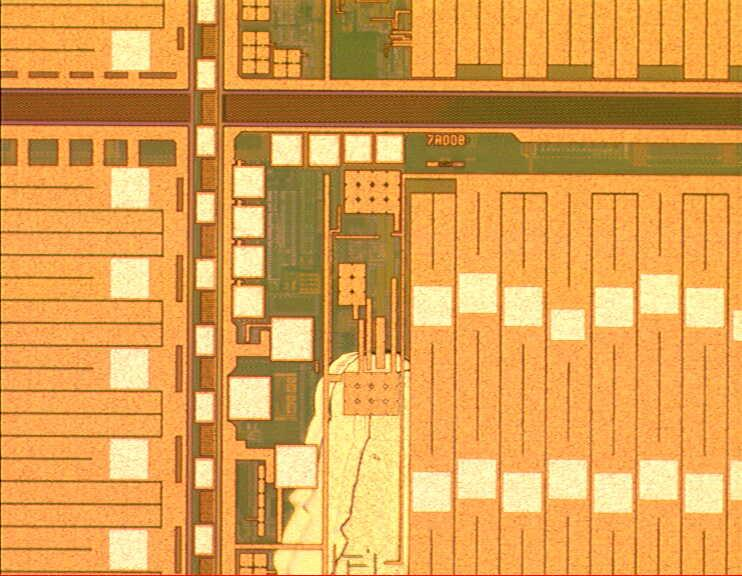COATING BAD: (271, 351, 411, 576)
